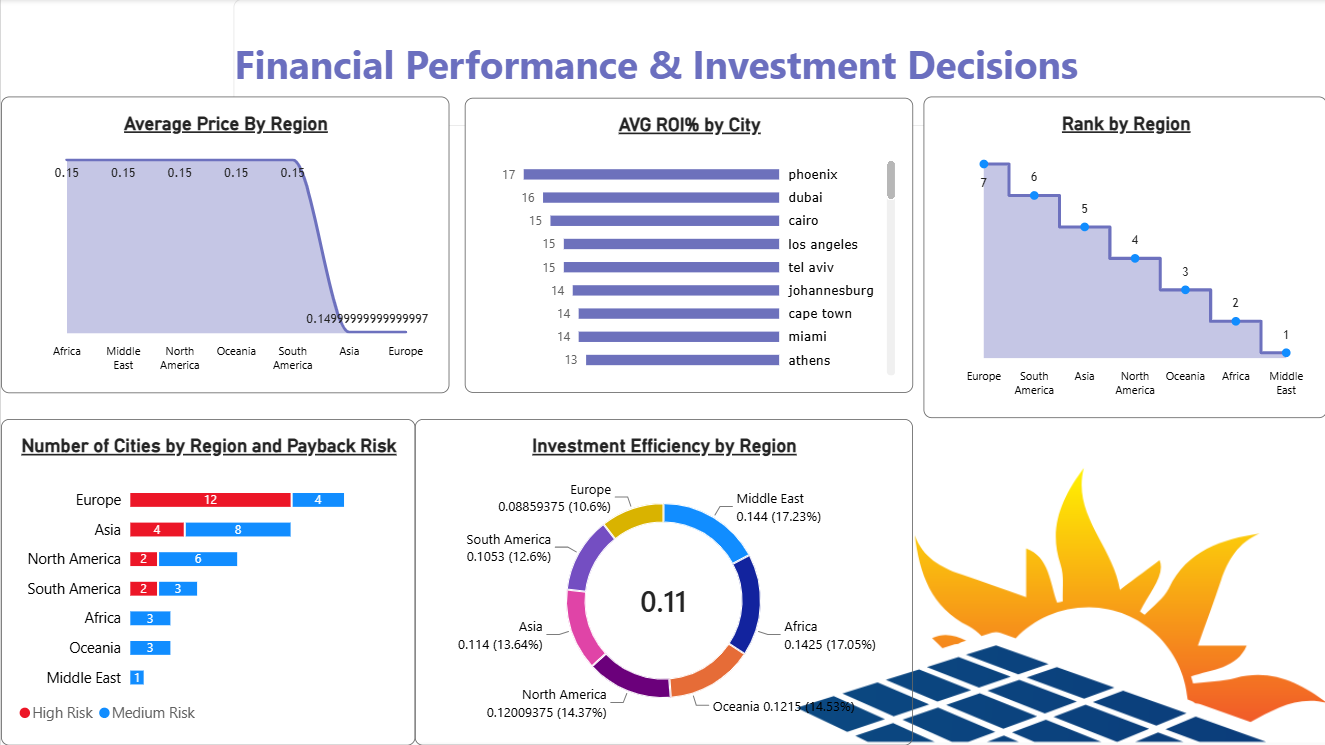

This screenshot's page, from the dashboard's own definition file:
{"tool":"powerbi","page":{"name":"Financial Performance & Investment Decisions","canvas":[1280,720],"ordinal":0},"visuals":[{"type":"textbox","box":[224,0,1334,122],"z":0},{"type":"lineChart","title":"Average Price By Region","fields":{"Y":["Avg(solar_energy_worldwide.Electricity_Price_USD_per_kWh)"],"Category":["solar_energy_worldwide.Region"]},"box":[0,94.6,432.6,286.3],"z":1000},{"type":"barChart","title":"AVG ROI% by City","fields":{"Y":["Measures Table.AVG ROI%"],"Category":["solar_energy_worldwide.City"]},"box":[447.8,95.9,432.6,285.1],"z":2000},{"type":"barChart","title":"Number of Cities by Region and Payback Risk","fields":{"Category":["solar_energy_worldwide.Region"],"Y":["CountNonNull(solar_energy_worldwide.Country)"],"Series":["solar_energy_worldwide.Payback Risk"]},"box":[0,404.9,399.8,315.3],"z":3000},{"type":"donutChart","fields":{"Y":["Measures Table.Investment Efficiency"],"Category":["solar_energy_worldwide.Region"]},"box":[399.8,404.9,480.6,315.3],"z":4000},{"type":"lineChart","title":"Rank by Region","fields":{"Y":["Measures Table.Rank"],"Category":["solar_energy_worldwide.Region"]},"box":[890.5,94.6,389.8,310.3],"z":5000}]}

Visuals, with their boxes in screenshot pixels (x1, y1, x2, y2), scaled from the page's 1280x720 canvas onto the 1325x745 screenshot:
textbox: region(232, 0, 1324, 126)
"Average Price By Region" lineChart: region(0, 98, 448, 394)
"AVG ROI% by City" barChart: region(464, 99, 911, 394)
"Number of Cities by Region and Payback Risk" barChart: region(0, 419, 414, 744)
donutChart - Measures Table.Investment Efficiency x solar_energy_worldwide.Region: region(414, 419, 911, 744)
"Rank by Region" lineChart: region(922, 98, 1324, 419)
